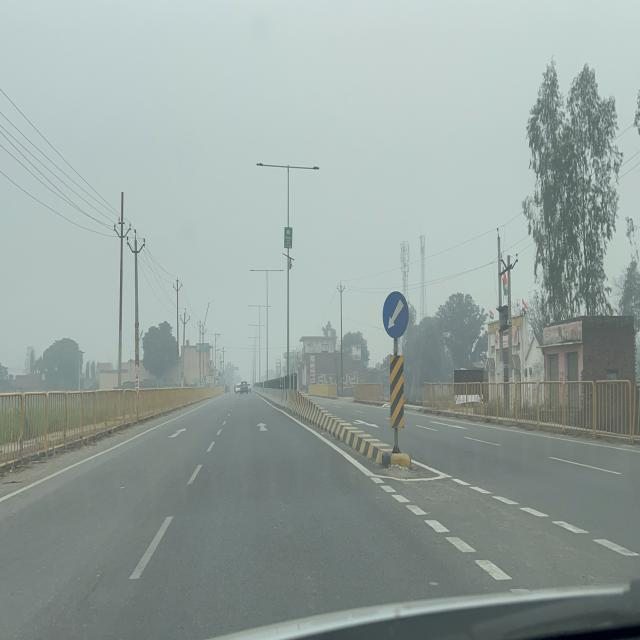KEEP_LEFT: (382, 290, 410, 340)
